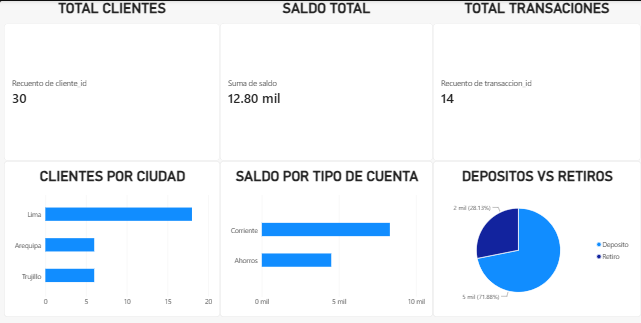

This screenshot's page, from the dashboard's own definition file:
{"tool":"powerbi","page":{"name":"Página 1","canvas":[1920,1080],"ordinal":0},"visuals":[{"type":"cardVisual","title":"TOTAL CLIENTES","fields":{"Data":["CountNonNull(clientes.cliente_id)"]},"box":[10.6,0,459.8,342.7],"z":0},{"type":"cardVisual","title":"SALDO TOTAL","fields":{"Data":["Sum(cuentas.saldo)"]},"box":[470.4,0,453.4,342.7],"z":1000},{"type":"cardVisual","title":"TOTAL TRANSACIONES","fields":{"Data":["CountNonNull(transacciones.transaccion_id)"]},"box":[923.8,0,442.7,342.7],"z":2000},{"type":"clusteredBarChart","title":"CLIENTES POR CIUDAD","fields":{"Category":["clientes.ciudad"],"Y":["CountNonNull(clientes.cliente_id)"]},"box":[10.6,342.7,459.8,332.1],"z":3000},{"type":"clusteredBarChart","title":"SALDO POR TIPO DE CUENTA","fields":{"Category":["cuentas.tipo_cuenta"],"Y":["Sum(cuentas.saldo)"]},"box":[470.4,342.7,453.4,332.1],"z":4000},{"type":"pieChart","title":"DEPOSITOS VS RETIROS","fields":{"Category":["transacciones.tipo"],"Y":["Sum(transacciones.monto)"]},"box":[923.8,342.7,442.7,332.1],"z":5000}]}

Visuals, with their boxes on the page's 1920x1080 design canvas (x1, y1, x2, y2). These are canvas units, not pixel positions in the 641x323 screenshot, which may show the page scaled, cropped or inside an application window:
"TOTAL CLIENTES" cardVisual: <region>11, 0, 470, 343</region>
"SALDO TOTAL" cardVisual: <region>470, 0, 924, 343</region>
"TOTAL TRANSACIONES" cardVisual: <region>924, 0, 1366, 343</region>
"CLIENTES POR CIUDAD" clusteredBarChart: <region>11, 343, 470, 675</region>
"SALDO POR TIPO DE CUENTA" clusteredBarChart: <region>470, 343, 924, 675</region>
"DEPOSITOS VS RETIROS" pieChart: <region>924, 343, 1366, 675</region>
